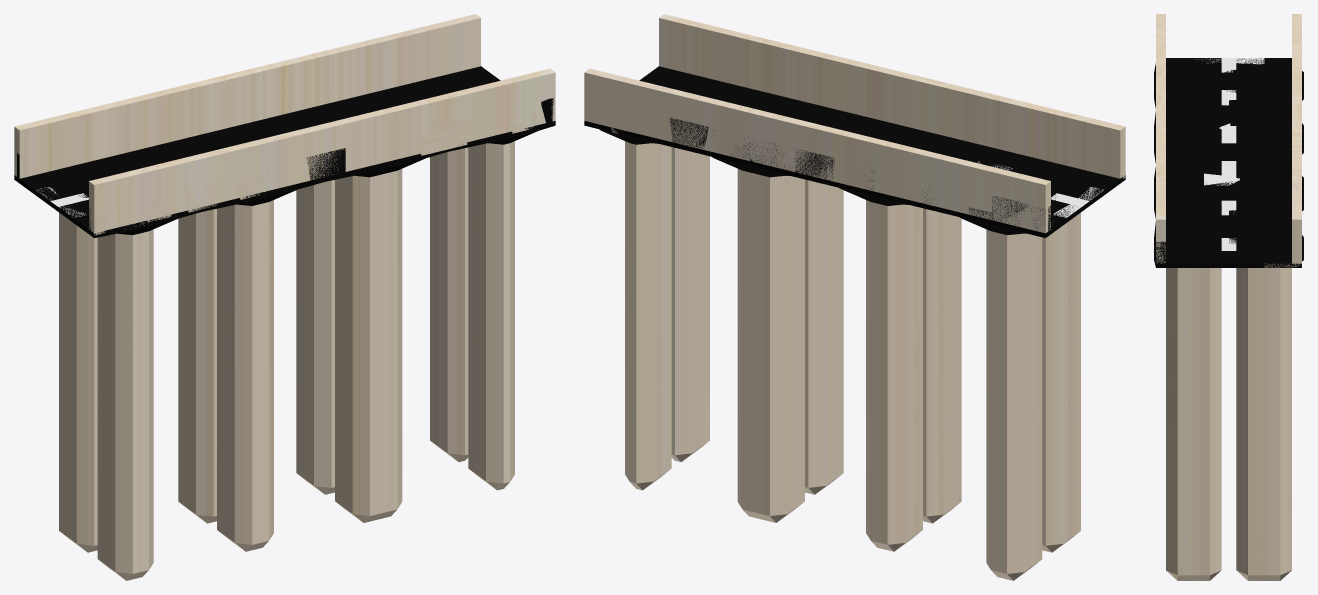
File: Bridge C.F1.fbx
3 views of the same model, side by side, from view 1: azimuth 30°, elevation 25°; view 2: azimuth 150°, elevation 25°; view 3: azimuth 270°, elevation 25° (orthographic). The views are drawn at different scales.
Parts seen in each view (by area): view 1: road, road_cell.219, road_cell.078, road_cell.015, road_cell.180, road_cell.004, road_cell.090, road_cell.257, road_cell.187, road_cell.127, road_cell.038, road_cell.028 (+27 smaller); view 2: road, road_cell.093, road_cell.215, road_cell.231, road_cell.210, road_cell.270, road_cell.197, road_cell.004, road_cell.180, road_cell.078, road_cell.183, road_cell.179 (+31 smaller); view 3: road, road_cell.238, road_cell.110, road_cell.077, road_cell.189, road_cell.224, road_cell.014, road_cell.137, road_cell.268, road_cell.247, road_cell.018, road_cell.085 (+20 smaller).
Boxes of the visible parts, bbox=[...] form: road: bbox=[14, 22, 555, 580]; road_cell.219: bbox=[226, 204, 243, 373]; road_cell.078: bbox=[44, 172, 86, 367]; road_cell.015: bbox=[87, 210, 106, 395]; road_cell.180: bbox=[59, 361, 70, 539]; road_cell.004: bbox=[217, 361, 228, 538]; road_cell.090: bbox=[230, 93, 283, 137]; road_cell.257: bbox=[388, 103, 430, 146]; road_cell.187: bbox=[162, 148, 210, 343]; road_cell.127: bbox=[150, 113, 201, 157]; road_cell.038: bbox=[415, 118, 469, 155]; road_cell.028: bbox=[191, 103, 239, 143]; road: bbox=[584, 14, 1125, 578]; road_cell.093: bbox=[750, 159, 792, 346]; road_cell.215: bbox=[756, 339, 796, 519]; road_cell.231: bbox=[873, 192, 909, 375]; road_cell.210: bbox=[879, 372, 909, 548]; road_cell.270: bbox=[809, 316, 834, 490]; road_cell.197: bbox=[644, 306, 662, 487]; road_cell.004: bbox=[934, 339, 952, 518]; road_cell.180: bbox=[1015, 396, 1033, 576]; road_cell.078: bbox=[1016, 214, 1052, 403]; road_cell.183: bbox=[675, 284, 692, 459]; road_cell.179: bbox=[999, 402, 1015, 577]; road: bbox=[1154, 14, 1303, 580]; road_cell.238: bbox=[1193, 416, 1220, 577]; road_cell.110: bbox=[1193, 244, 1217, 420]; road_cell.077: bbox=[1264, 418, 1286, 577]; road_cell.189: bbox=[1171, 244, 1193, 420]; road_cell.224: bbox=[1242, 243, 1264, 420]; road_cell.014: bbox=[1242, 420, 1264, 577]; road_cell.137: bbox=[1264, 244, 1286, 420]; road_cell.268: bbox=[1177, 420, 1193, 577]; road_cell.247: bbox=[1284, 416, 1291, 575]; road_cell.018: bbox=[1229, 209, 1264, 224]; road_cell.085: bbox=[1229, 98, 1264, 113].
Bounding box in the file's own units: 2000 × 1720 × 616.
